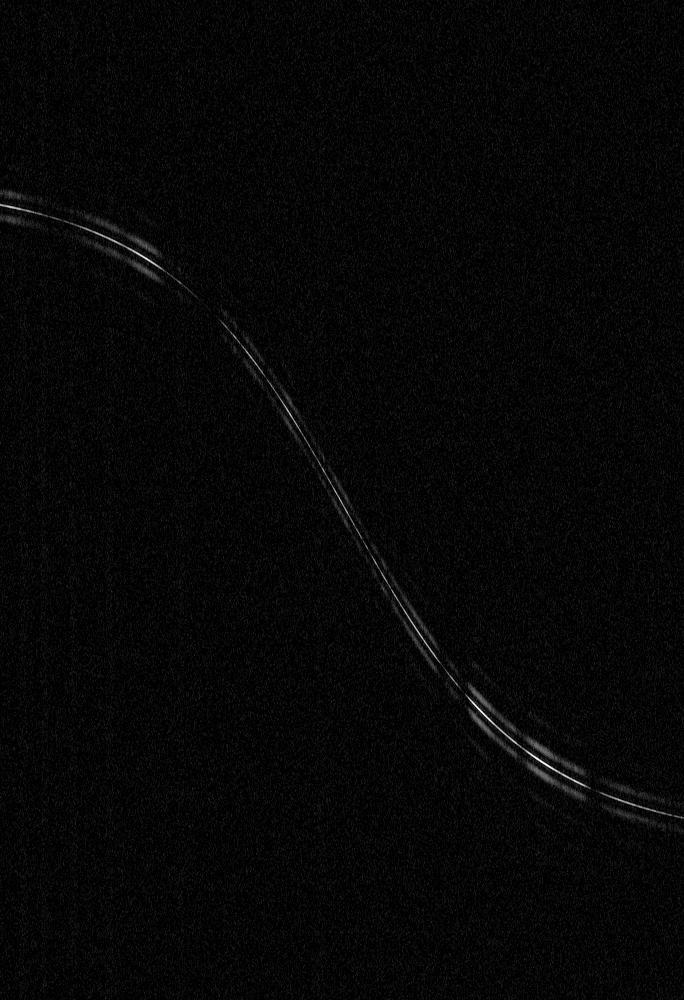signal: (0, 0, 683, 999)
